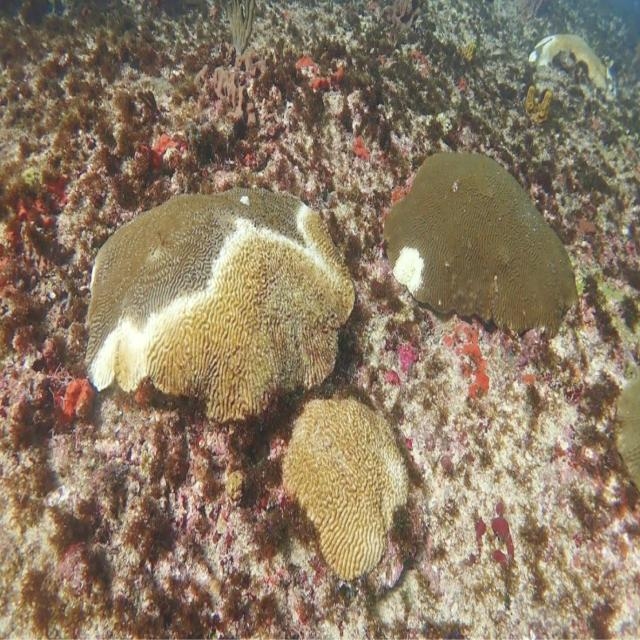Coral: (83, 186, 355, 426), (383, 154, 579, 340), (280, 400, 410, 580), (528, 34, 607, 91), (611, 370, 640, 494)
